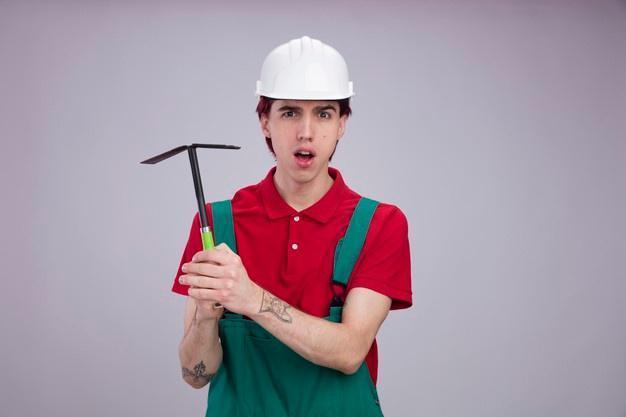helmet: (255, 35, 355, 100)
